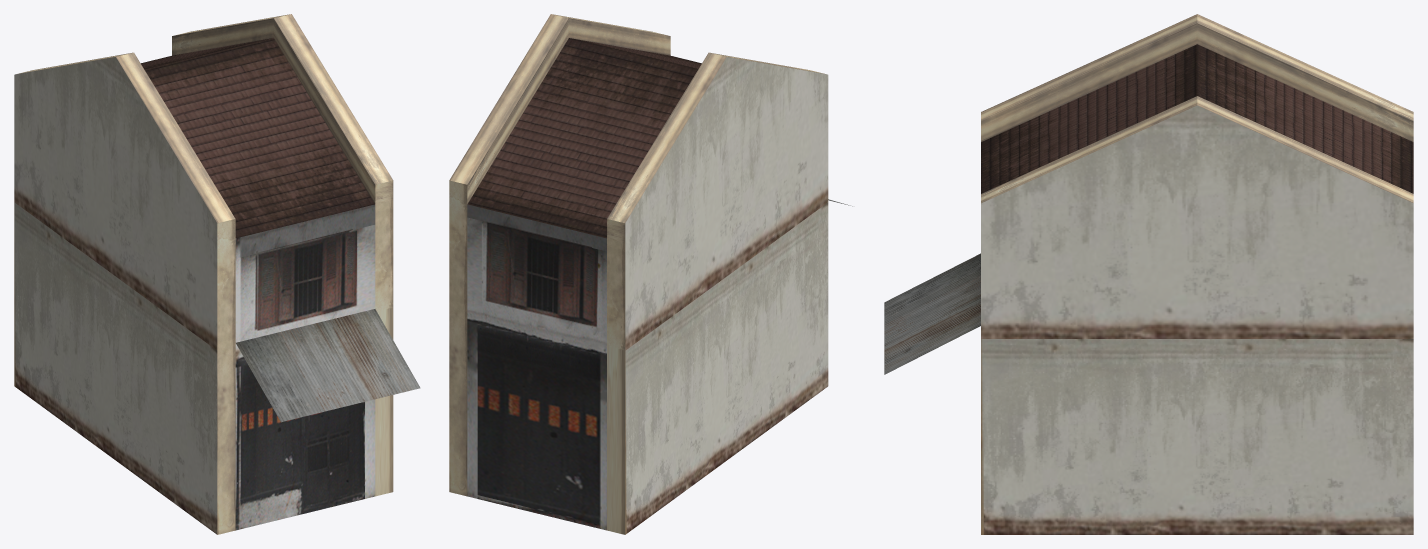
Rendered from SM_Building_Thin_01.fbx.
3 views of the same model, side by side, from view 1: azimuth 30°, elevation 25°; view 2: azimuth 150°, elevation 25°; view 3: azimuth 270°, elevation 25° (orthographic). The views are drawn at different scales.
Parts seen in each view (by area): view 1: SM_Building_Thin_01; view 2: SM_Building_Thin_01; view 3: SM_Building_Thin_01.
Boxes of the visible parts, x1,y1,x2,y2 form: SM_Building_Thin_01: (14,14,420,534); SM_Building_Thin_01: (449,14,852,534); SM_Building_Thin_01: (884,14,1413,534).
Bounding box in the file's own units: 4.2 × 9.21 × 10.28.
